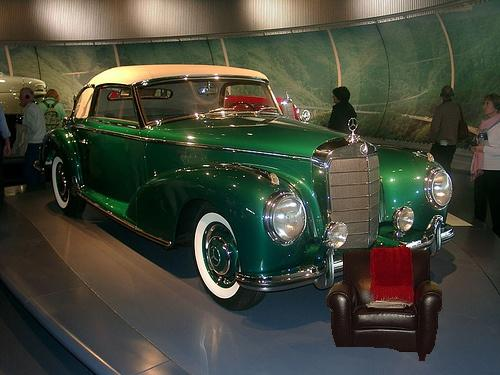tampered: (327, 247, 442, 361)
